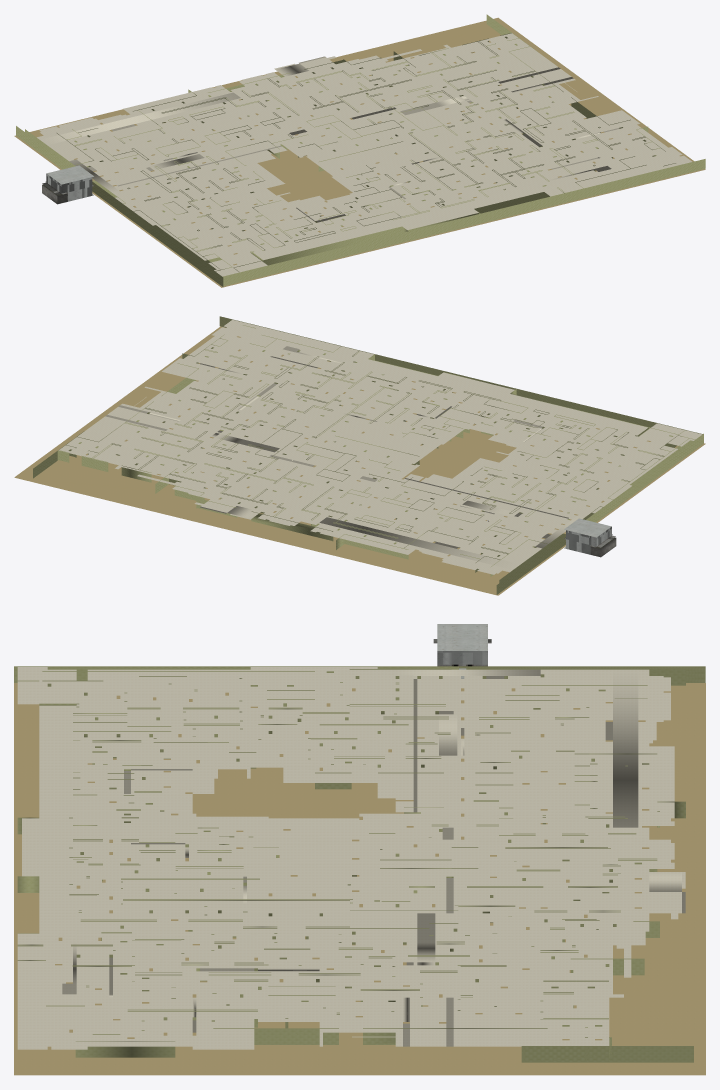
Rendered from kcl.obj.
3 renders of one model, top to bottom at view 1: azimuth 30°, elevation 25°; view 2: azimuth 150°, elevation 25°; view 3: azimuth 270°, elevation 25°, orthographic. The views are drawn at different scales.
Parts seen in each view (by area): view 1: ceiling_hull, wall_backrooms, floor_carpet; view 2: ceiling_hull, wall_backrooms, floor_carpet; view 3: ceiling_hull, floor_carpet, wall_backrooms.
Part boxes in pixels (left/top/right/bottom): ceiling_hull: left=37, top=33, right=691, bottom=276; wall_backrooms: left=16, top=14, right=705, bottom=286; floor_carpet: left=14, top=17, right=705, bottom=287; ceiling_hull: left=59, top=319, right=702, bottom=574; wall_backrooms: left=33, top=316, right=703, bottom=594; floor_carpet: left=14, top=326, right=705, bottom=595; ceiling_hull: left=17, top=624, right=685, bottom=1049; floor_carpet: left=14, top=668, right=705, bottom=1075; wall_backrooms: left=14, top=639, right=705, bottom=1062.
Size of the model in its own units: 106510 by 3960 by 73329.
